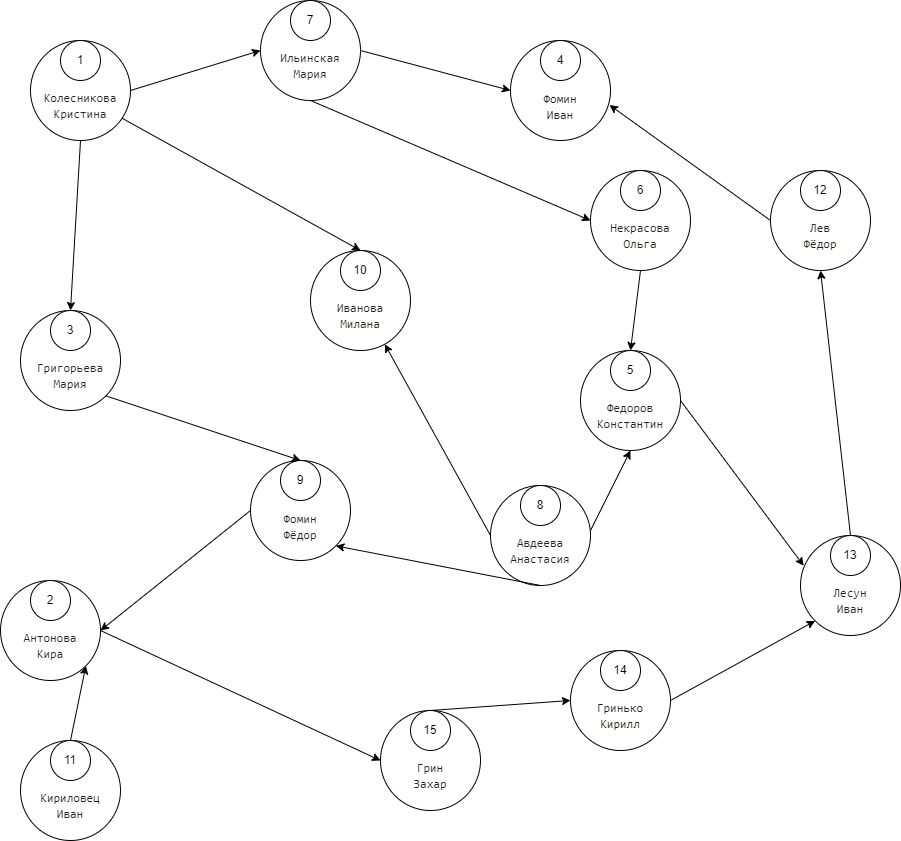

The dashboard page shown, as its layout file describes it:
{"tool":"powerbi","page":{"name":"Groupmates","canvas":[1280,720],"ordinal":0},"visuals":[{"type":"ForceGraph1449359463895","title":"Одногруппники","fields":{"Source":["Groupmate.First"],"Target":["Groupmate.Second"],"SourceType":["Groupmate.First image name"],"TargetType":["Groupmate.Second image name"]},"box":[0,0,1279.1,719.1],"z":1}]}

Visuals, with their boxes on the page's 1280x720 design canvas (x1, y1, x2, y2). These are canvas units, not pixel positions in the 901x841 screenshot, which may show the page scaled, cropped or inside an application window:
"Одногруппники" ForceGraph1449359463895: 0,0,1279,719
